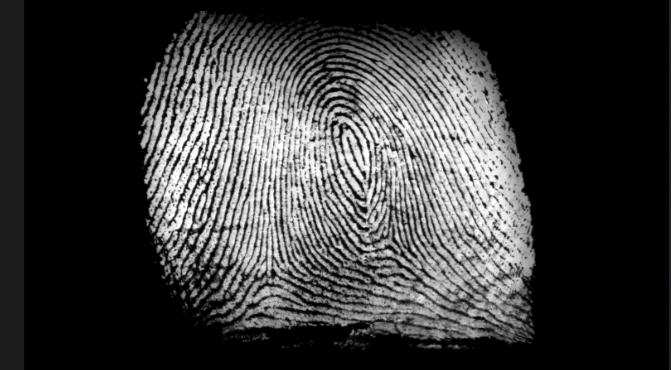nucelo: (318, 111, 372, 184)
verticilo: (250, 256, 284, 290), (371, 226, 407, 256)
